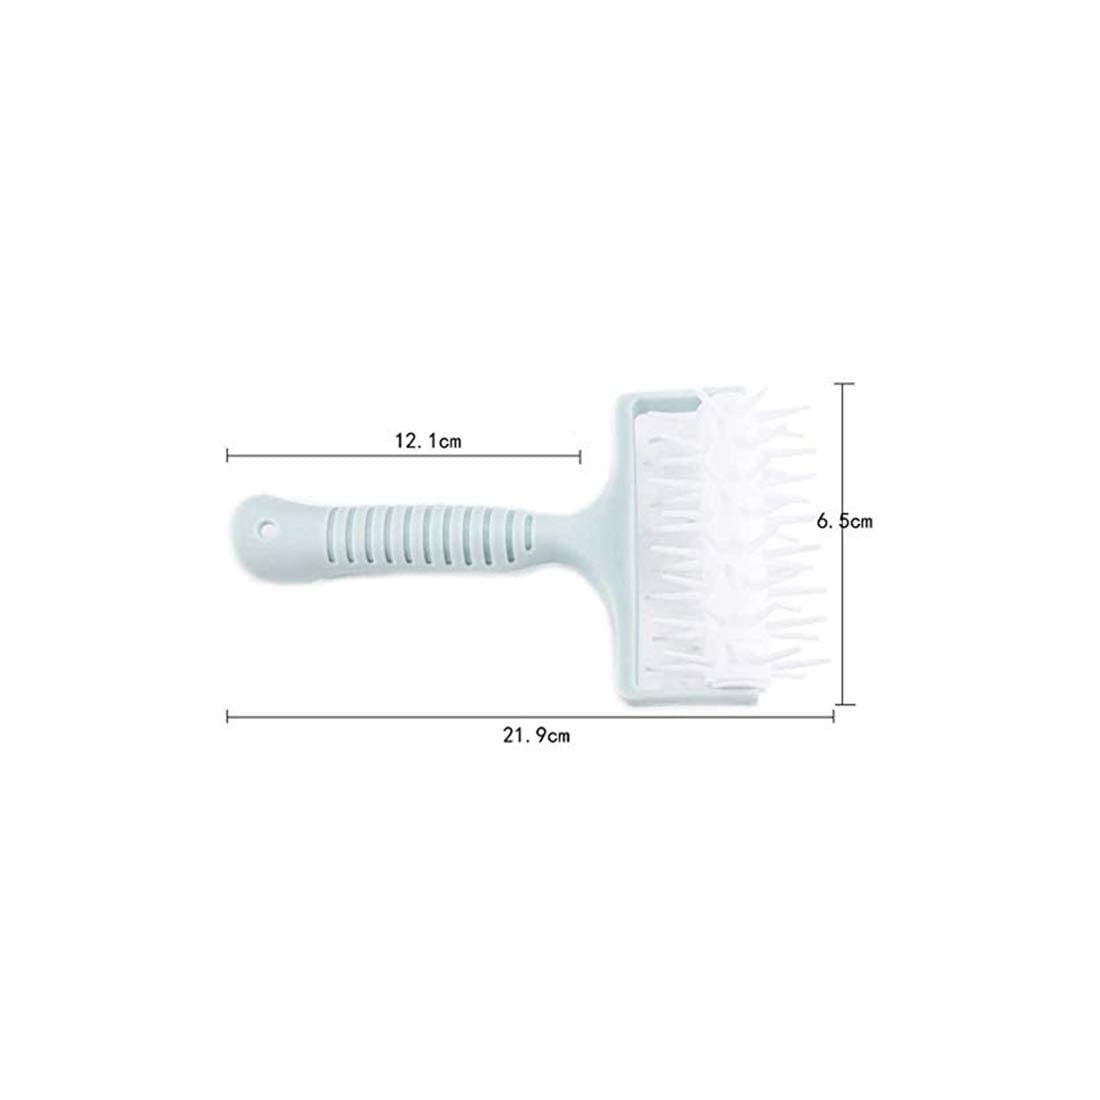21.: (502, 726, 530, 744)
